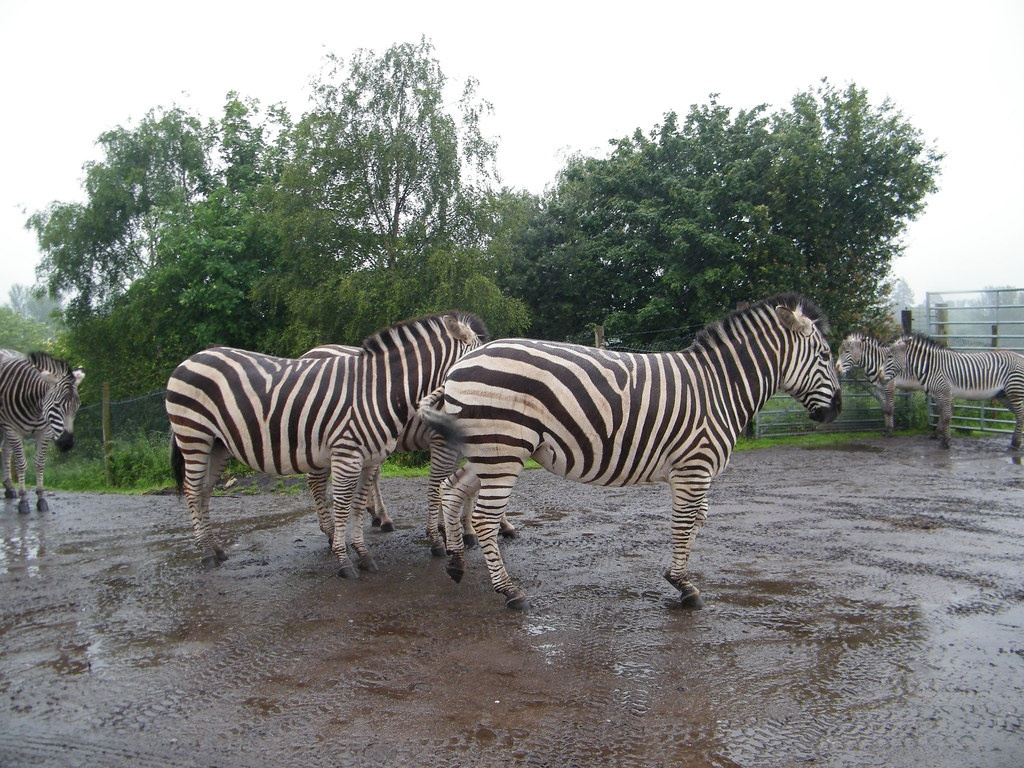zebra: (417, 296, 840, 617), (172, 312, 481, 582), (875, 321, 1023, 459), (0, 341, 92, 517)
